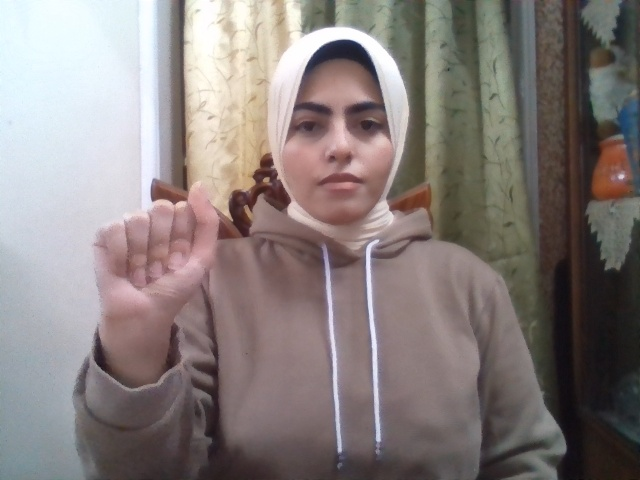A: (92, 183, 219, 329)
